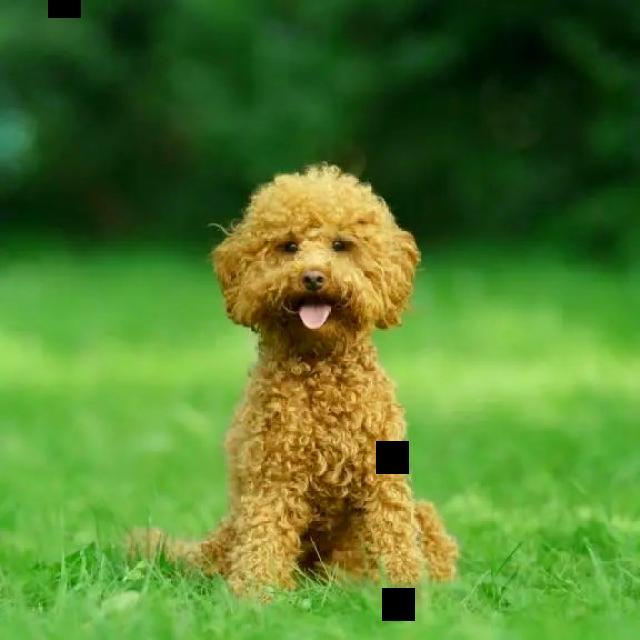adult_dog: (104, 157, 467, 606)
